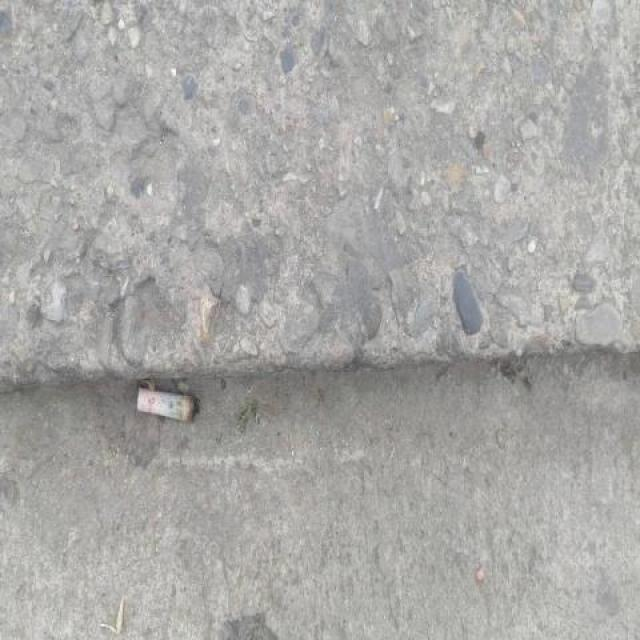non-organic waste: (133, 381, 203, 427)
